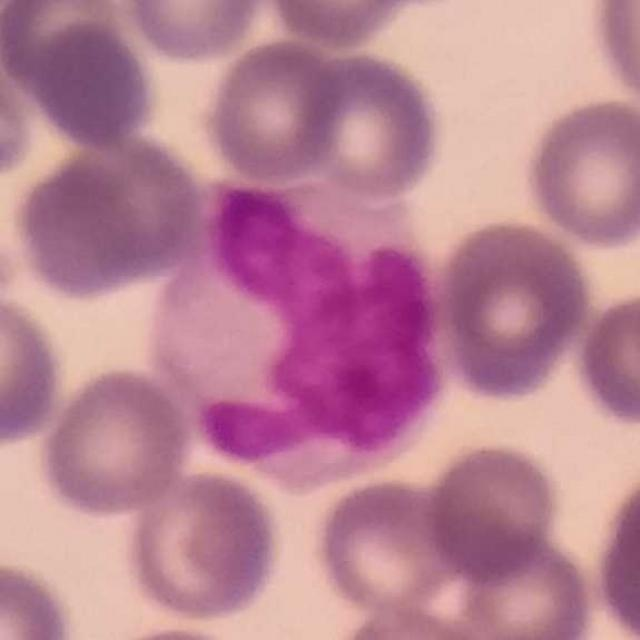mono: (149, 163, 452, 500)
